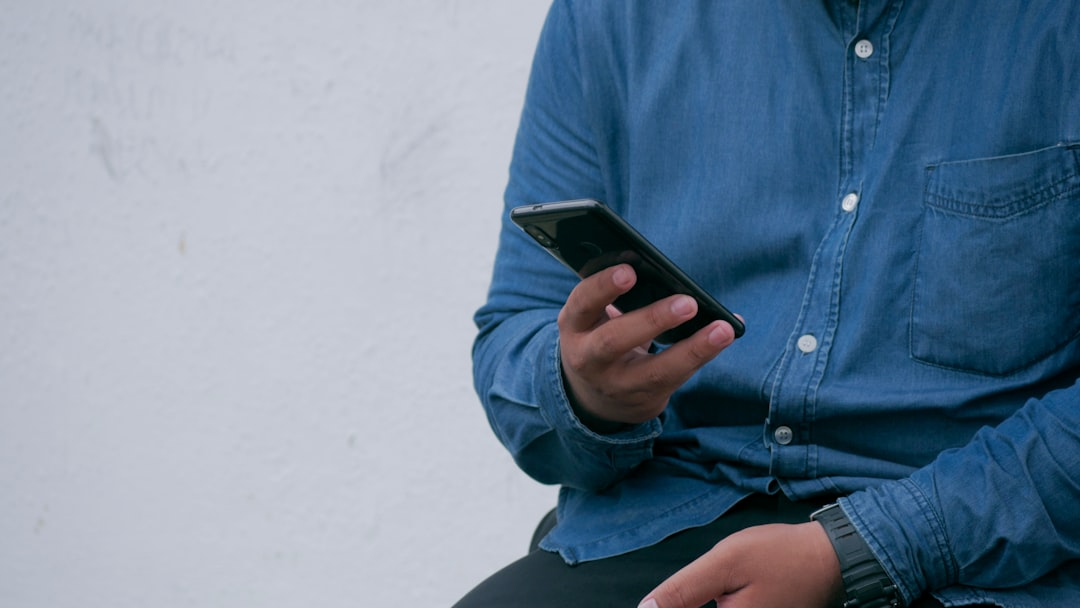phone: (508, 198, 750, 358)
